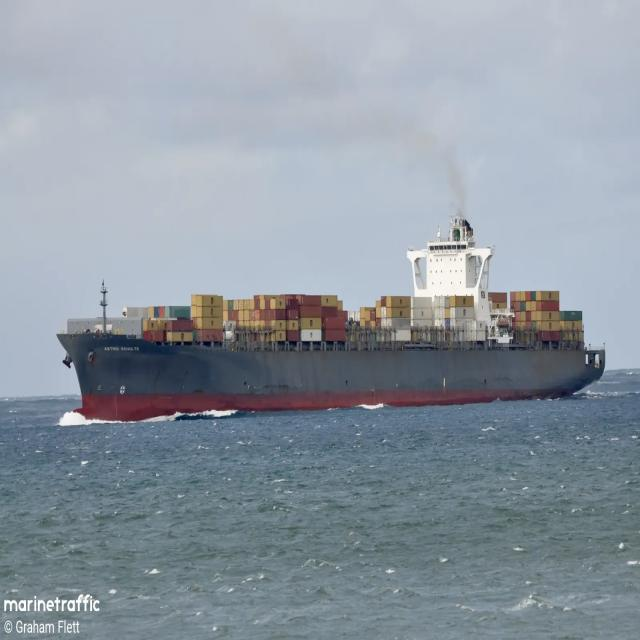Cargo: (57, 215, 604, 421)
